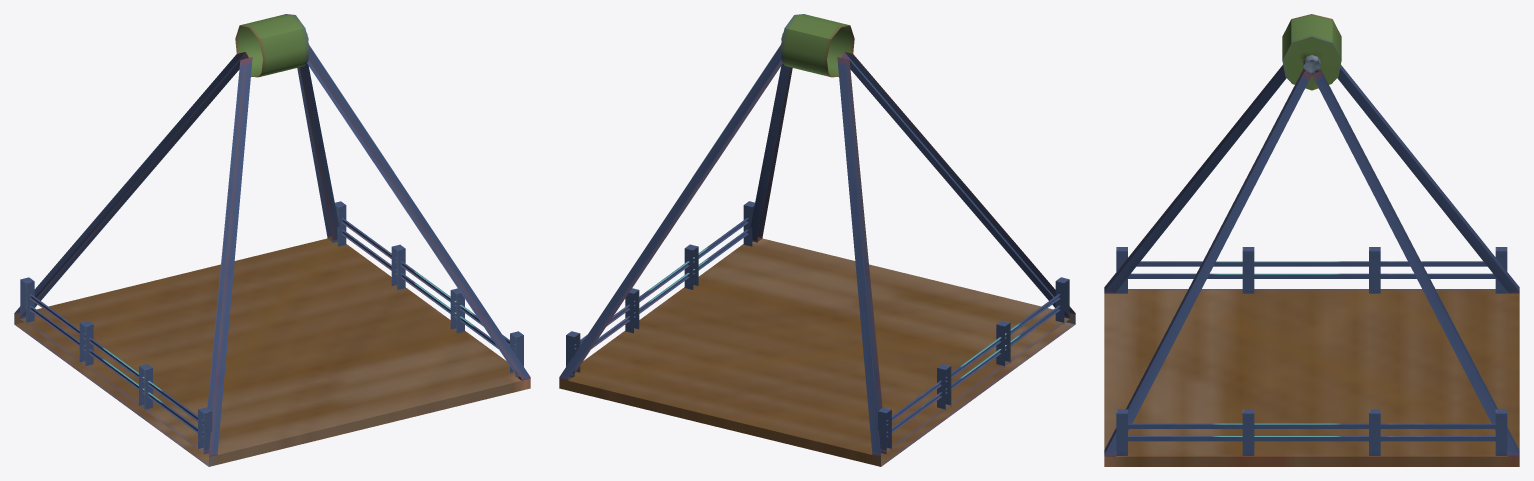
The model's file is IM_Mplateforme.fbx.
The picture shows the model from 3 angles, left to right: view 1: azimuth 30°, elevation 25°; view 2: azimuth 150°, elevation 25°; view 3: azimuth 270°, elevation 25°; orthographic projection. The views are drawn at different scales.
Visible parts, largest first — view 1: IM_Mplateforme; view 2: IM_Mplateforme; view 3: IM_Mplateforme.
Boxes of the visible parts, x1,y1,x2,y2 form: IM_Mplateforme: [14, 14, 530, 466]; IM_Mplateforme: [559, 14, 1075, 466]; IM_Mplateforme: [1104, 14, 1519, 466].
Bounding box in the file's own units: 34.54 × 36.14 × 34.44.
